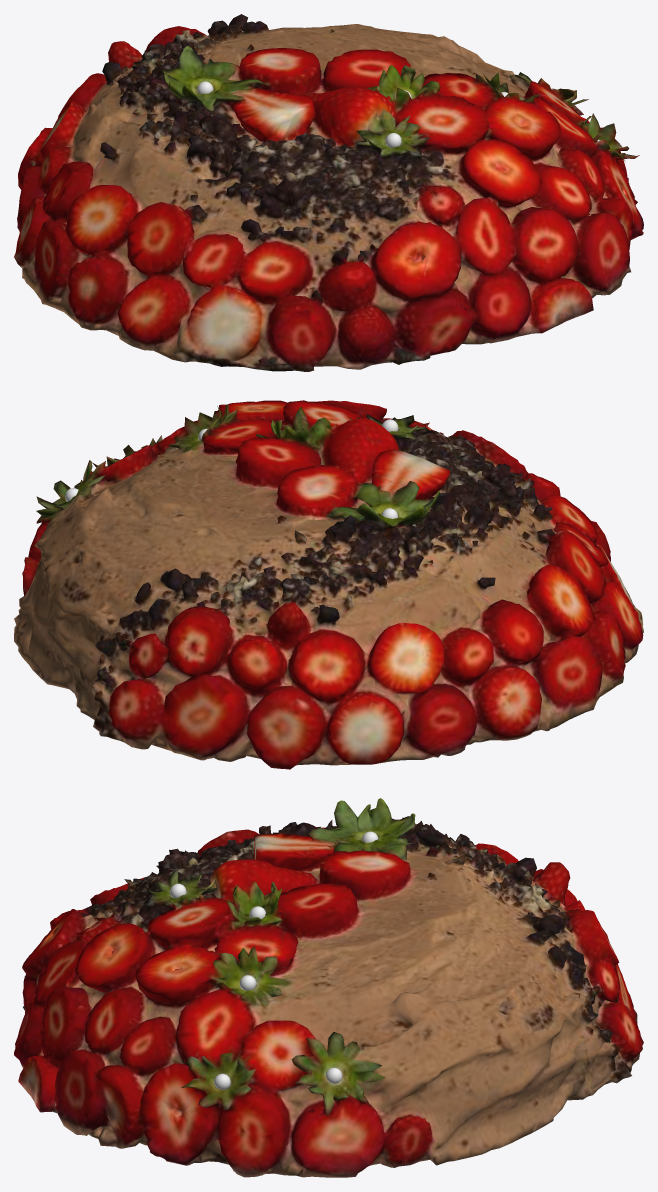
3 views of the same model, one above another, from view 1: azimuth 30°, elevation 25°; view 2: azimuth 150°, elevation 25°; view 3: azimuth 270°, elevation 25° (orthographic). The views are drawn at different scales.
Visible parts, largest first — view 1: strawberry_chocolate_cake; view 2: strawberry_chocolate_cake; view 3: strawberry_chocolate_cake.
Part boxes in pixels (x1,y1,x2,y2): strawberry_chocolate_cake: (14,14,643,371); strawberry_chocolate_cake: (14,400,643,769); strawberry_chocolate_cake: (14,798,643,1177).
Bounding box in the file's own units: 0.2443 × 0.0792 × 0.2403.
Materials: 1 (1 with a texture image).
